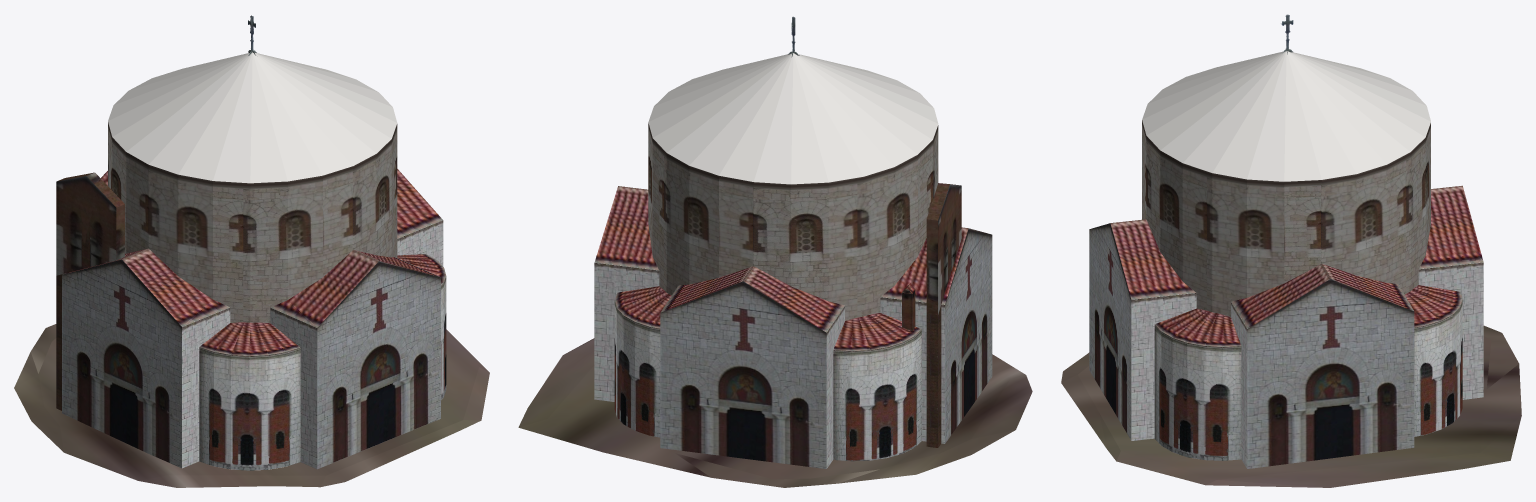
Rendered from CrkvaPreobrazenja.fbx.
The picture shows the model from 3 angles, left to right: view 1: azimuth 30°, elevation 25°; view 2: azimuth 150°, elevation 25°; view 3: azimuth 270°, elevation 25°; orthographic projection.
Parts seen in each view (by area): view 1: Model, Group6, Group3, Group7, Group10, Group2; view 2: Model, Group10, Group9, Group1; view 3: Model, Group7, Group2, Group9, Group1.
Part boxes in pixels (box(x1,y1,x2,y2)): Model: box(14, 15, 489, 487); Group6: box(148, 165, 353, 323); Group3: box(182, 307, 317, 470); Group7: box(353, 124, 397, 257); Group10: box(108, 122, 148, 253); Group2: box(397, 220, 446, 399); Model: box(518, 16, 1032, 487); Group10: box(753, 140, 932, 320); Group9: box(648, 123, 753, 295); Group1: box(594, 262, 671, 437); Model: box(1061, 14, 1521, 487); Group7: box(1146, 136, 1321, 317); Group2: box(1131, 293, 1247, 468); Group9: box(1322, 123, 1430, 294); Group1: box(1405, 262, 1483, 436).
Bounding box in the file's own units: 30.5 × 26.68 × 29.47.
